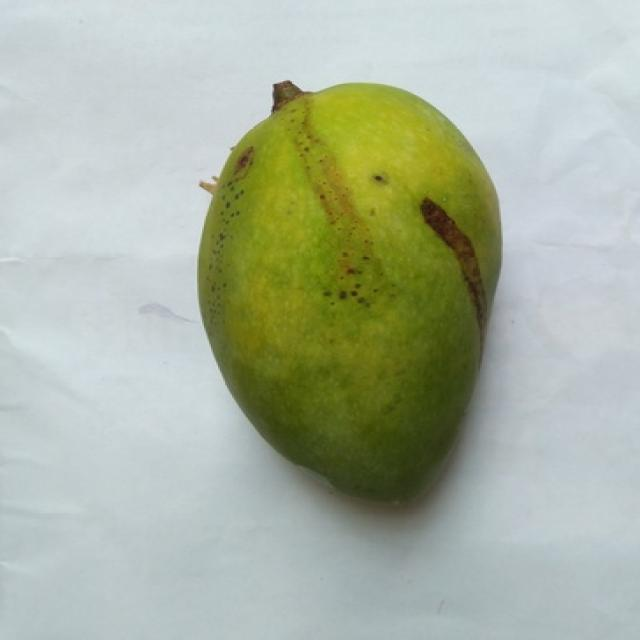Mango: (199, 83, 499, 501)
